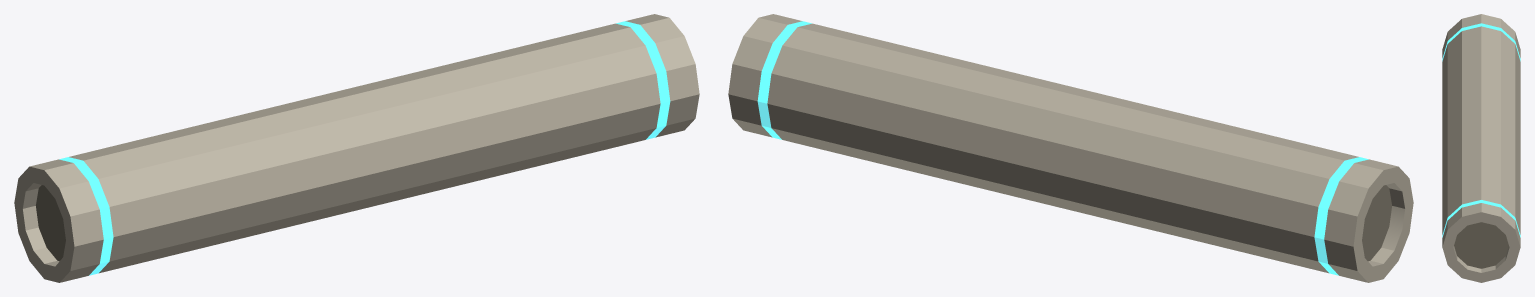
The model's file is PipeLong.fbx.
The picture shows the model from 3 angles, left to right: view 1: azimuth 30°, elevation 25°; view 2: azimuth 150°, elevation 25°; view 3: azimuth 270°, elevation 25°; orthographic projection. The views are drawn at different scales.
Visible parts, largest first — view 1: PipeLong; view 2: PipeLong; view 3: PipeLong.
Part boxes in pixels (x1,y1,x2,y2): PipeLong: (14,14,699,282); PipeLong: (728,14,1413,282); PipeLong: (1442,14,1520,282).
Bounding box in the file's own units: 720 × 120 × 120.
